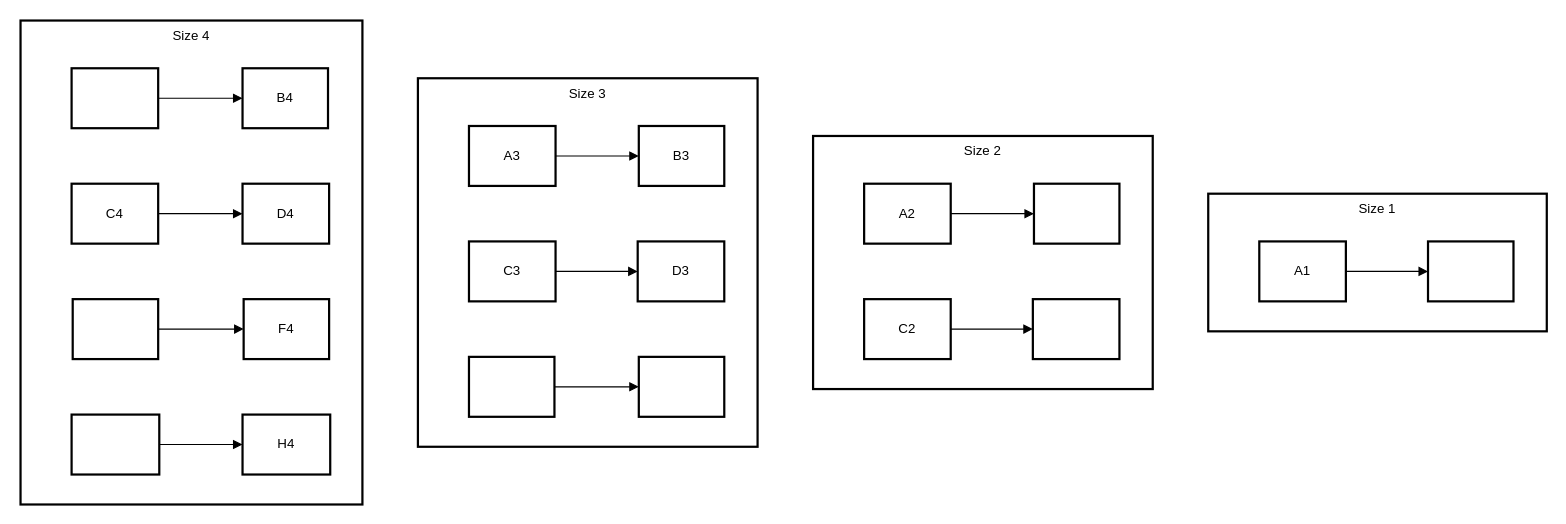
Image size: 1566x524. Some labels were removed from this diagram. The shapes that lost their labels are listed below. From the top down, each one's centre as x and y in pixels, then its label:
At point 114,98: "A4".
At point 1076,213: "B2".
At point 1470,271: "B1".
At point 115,328: "E4".
At point 1075,328: "D2".
At point 511,386: "E3".
At point 681,386: "F3".
At point 115,444: "G4".
